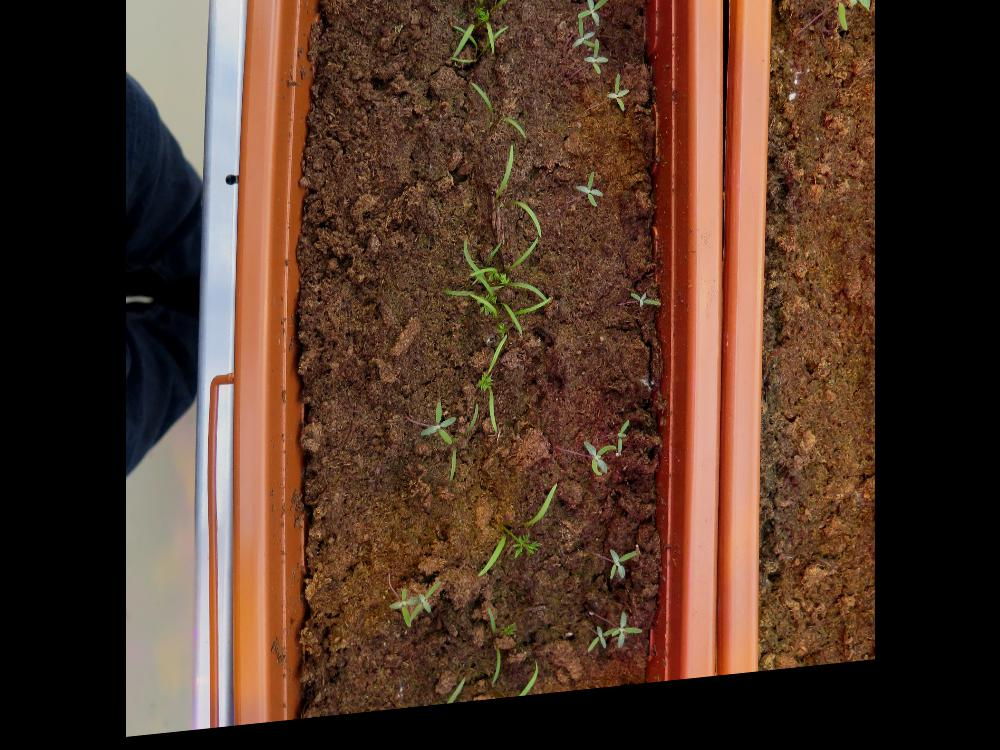weed: (418, 408, 457, 456), (583, 449, 618, 489), (573, 180, 606, 221), (609, 558, 640, 593), (606, 83, 631, 126), (629, 302, 664, 322), (618, 431, 631, 468)
